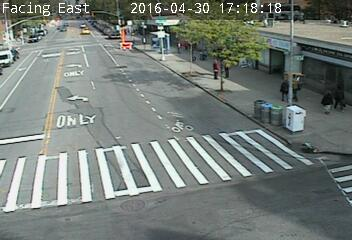neg: (14, 129, 44, 169), (272, 24, 298, 58), (165, 174, 190, 208), (47, 89, 70, 120), (92, 107, 115, 137), (285, 107, 307, 137), (256, 97, 278, 127), (150, 26, 171, 54), (159, 112, 180, 140), (75, 22, 95, 49), (112, 153, 132, 179), (18, 34, 37, 59)
pos: (314, 89, 332, 114), (202, 56, 220, 81), (274, 78, 292, 102), (223, 58, 237, 77)
